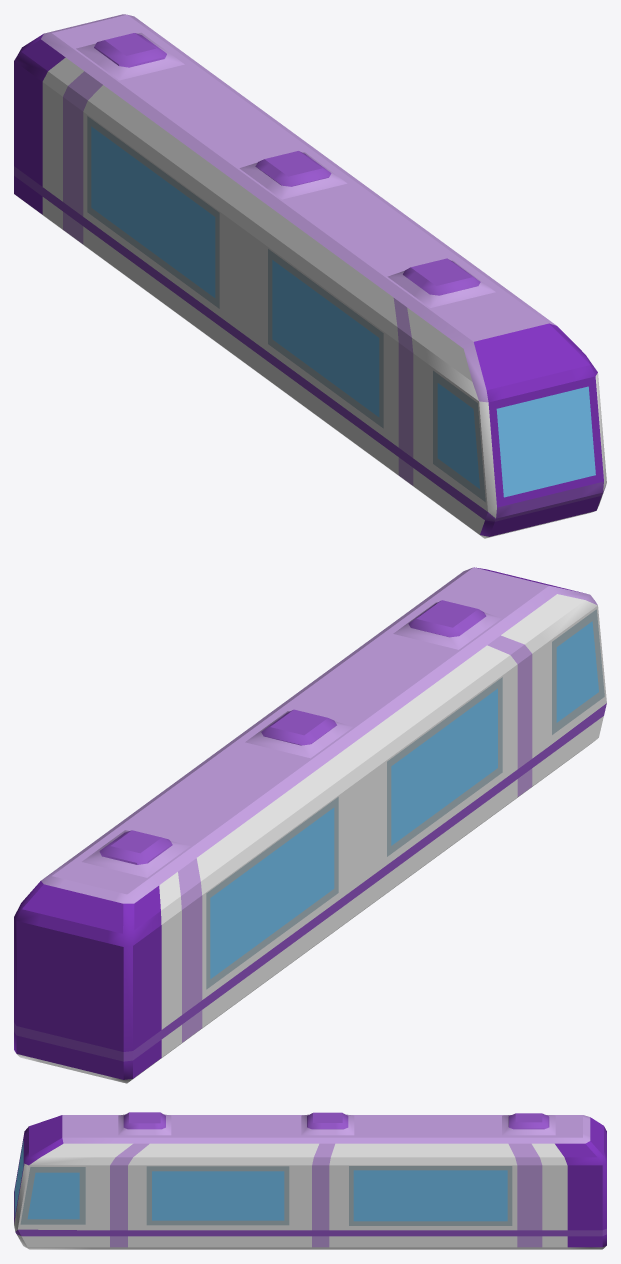
The model's file is PurpleTrain.fbx.
3 renders of one model, top to bottom at view 1: azimuth 30°, elevation 25°; view 2: azimuth 150°, elevation 25°; view 3: azimuth 270°, elevation 25°, orthographic. The views are drawn at different scales.
Visible parts, largest first — view 1: Cube; view 2: Cube; view 3: Cube.
Boxes of the visible parts, left/top/right/bottom form: Cube: left=14, top=14, right=606, bottom=538; Cube: left=14, top=567, right=606, bottom=1083; Cube: left=14, top=1112, right=606, bottom=1249.
Bounding box in the file's own units: 1.09 × 1.63 × 7.64.
1 material, 1 textured.
